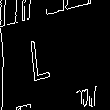L_N: (43, 28, 67, 82)
